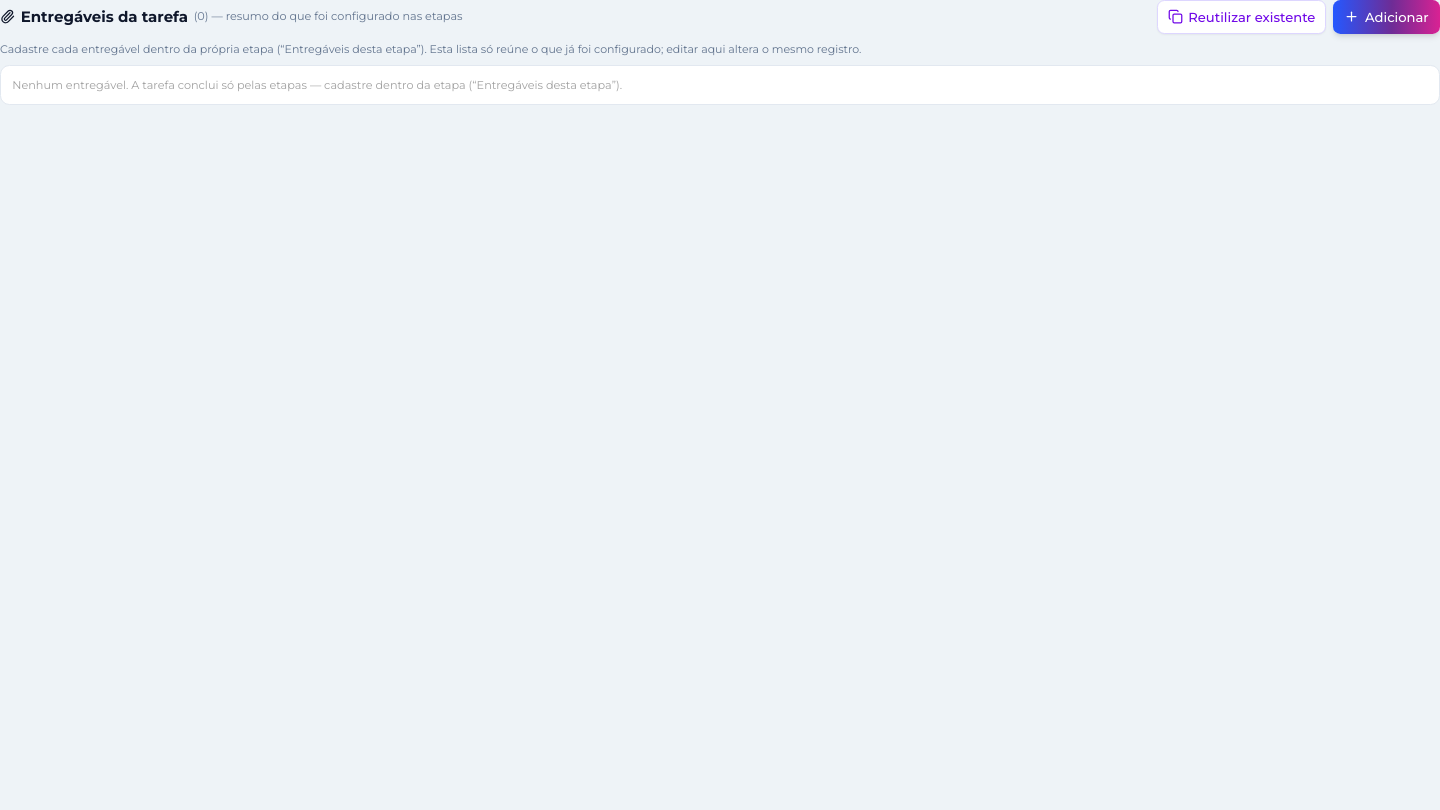
Entregáveis da tarefa · resumo derivado das etapas › rascunho novo já salvo retoma com ID real e não cria uma segunda cópia após F5
Later steps or results of the test are not shown.
Click the button "Adicionar": click(1387, 17) [1333, 0, 1439, 34]
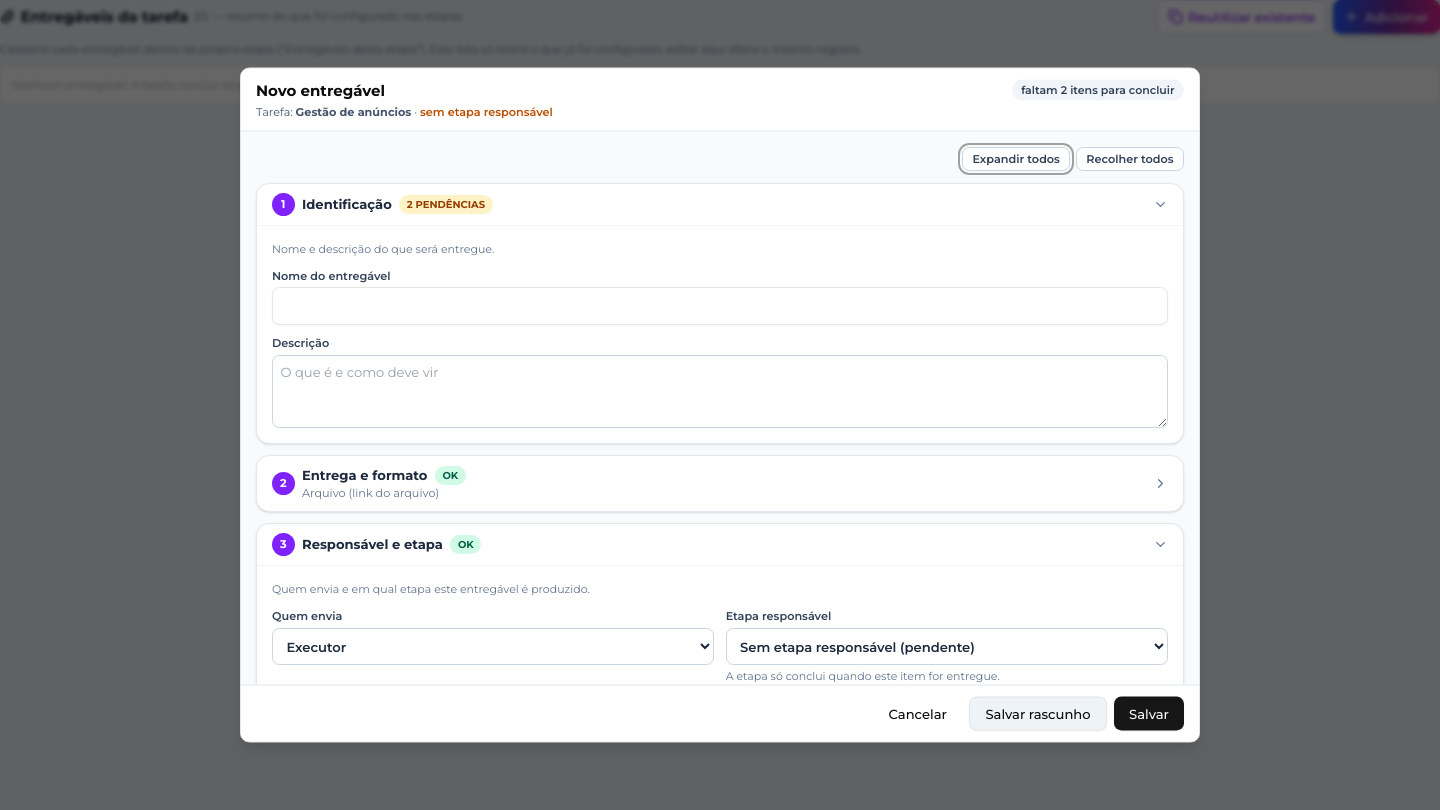
In the field labelled "Nome do entregável": (720, 306) [272, 287, 1168, 324], type "Rascunho salvo"
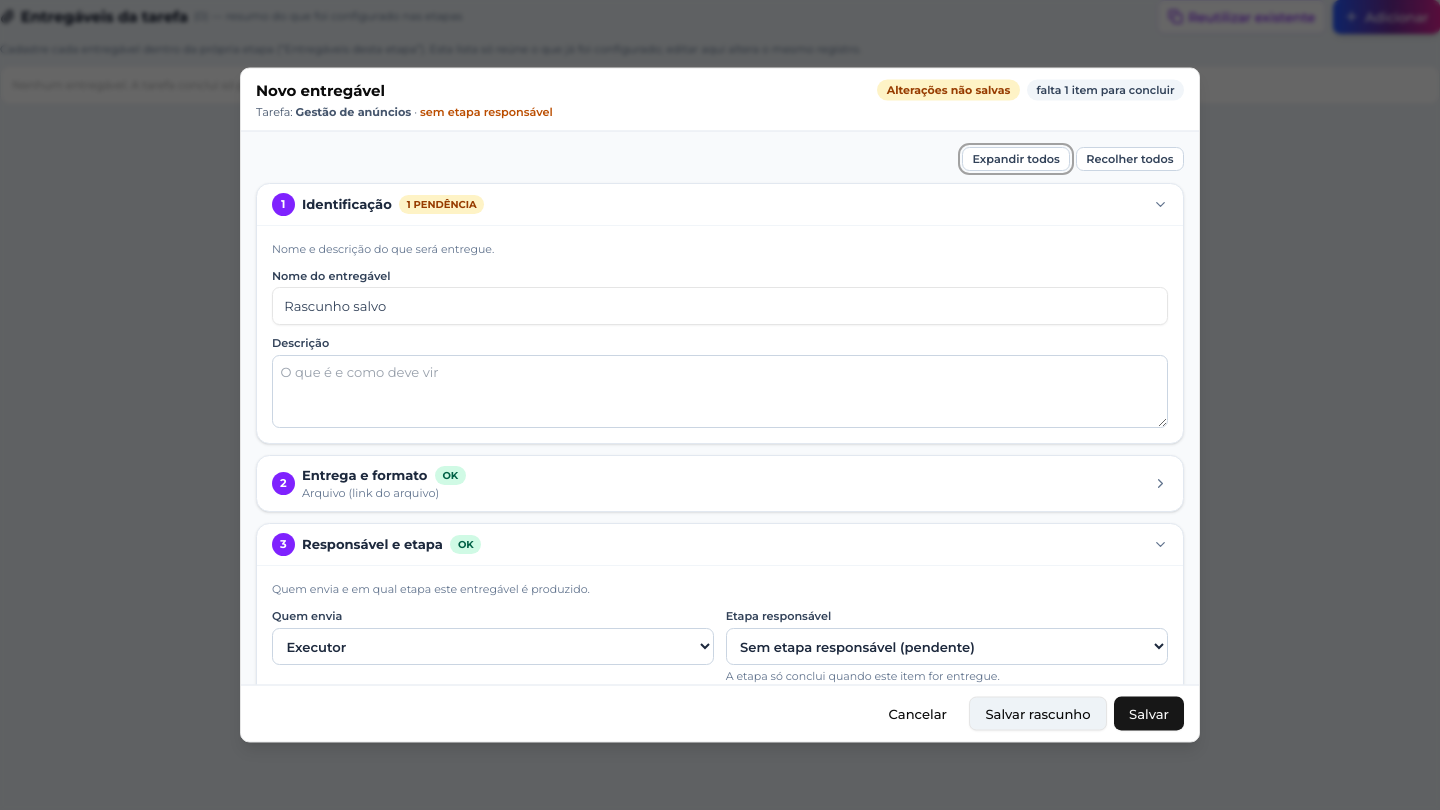
Click the button with test id "deliverable-save-draft": click(1038, 713) [969, 696, 1107, 730]
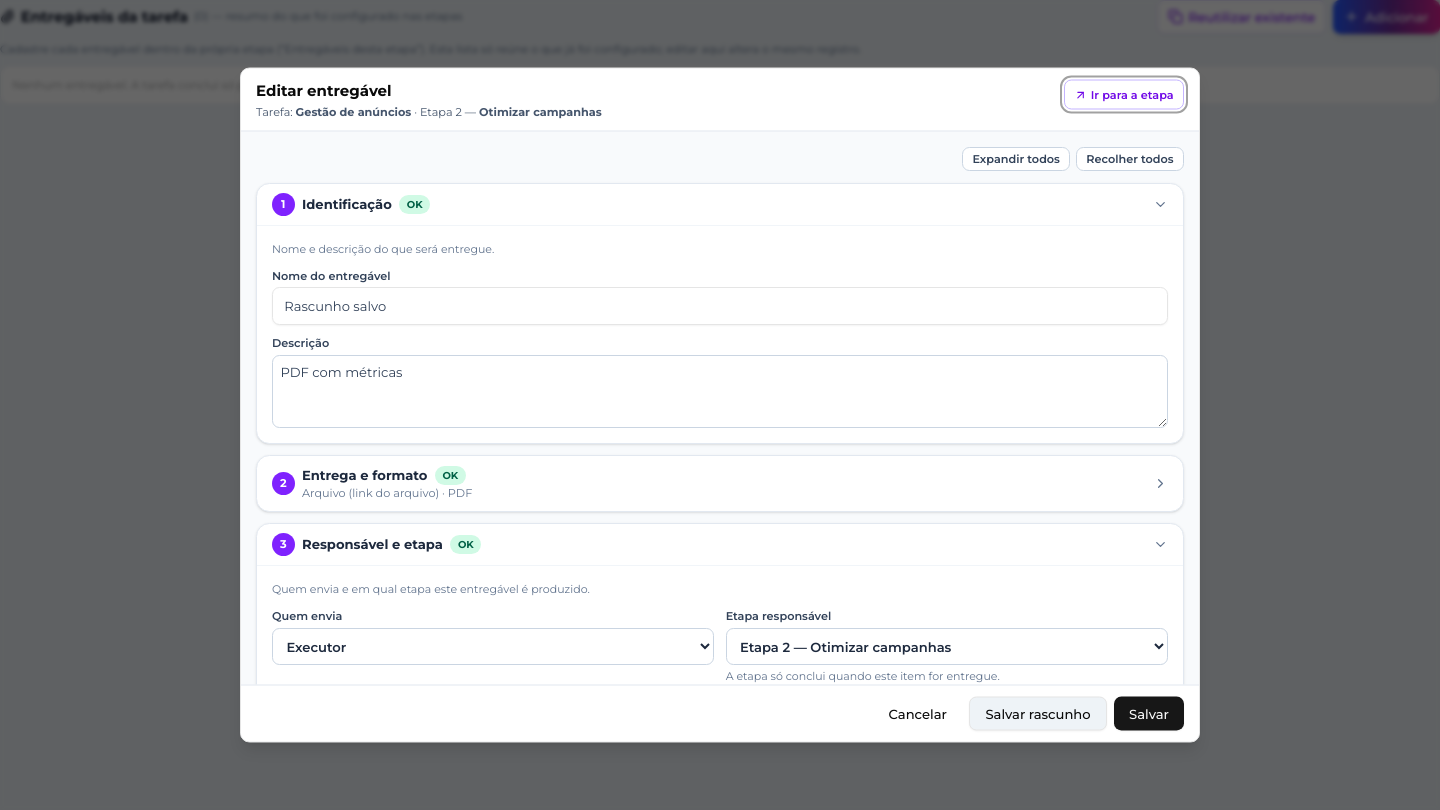
Expected: the heading "Editar entregável" is shown, [256, 81, 392, 100]
